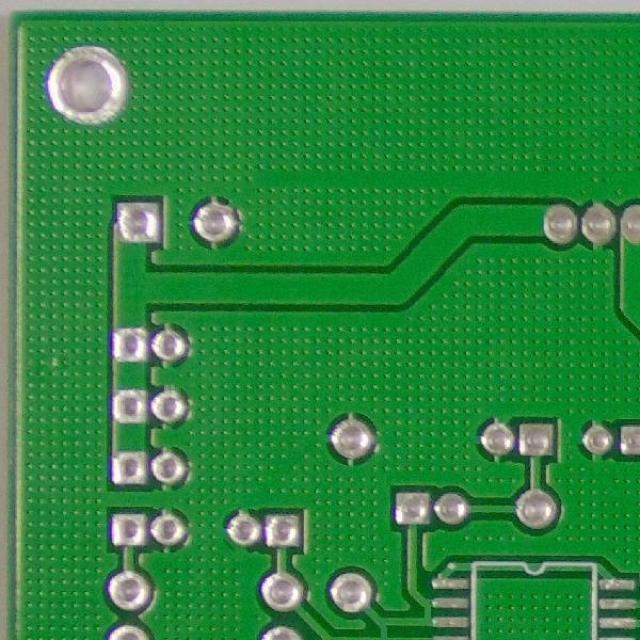Short_Circuit: (421, 590, 434, 634), (376, 618, 394, 640)
